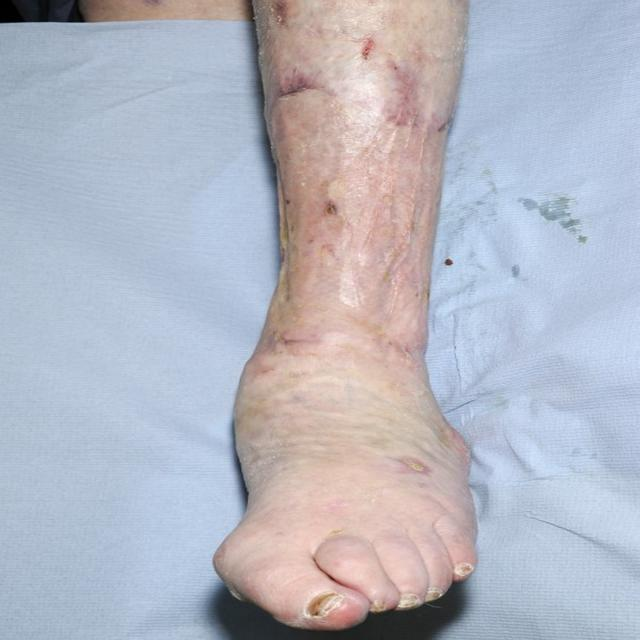wound: (278, 69, 408, 274)
